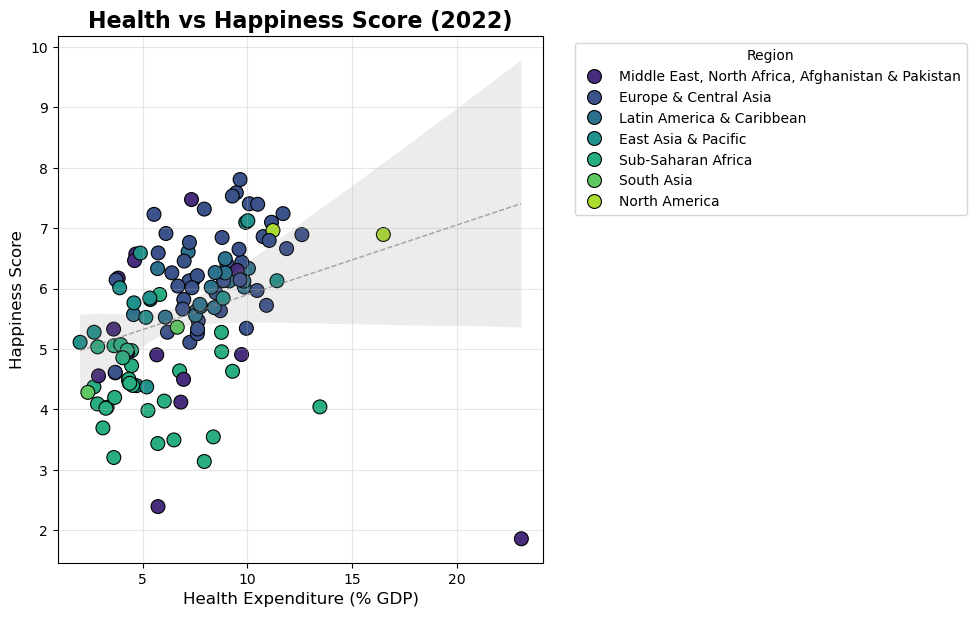

This screenshot's page, from the dashboard's own definition file:
{"tool":"powerbi","page":{"name":"Health vs Happiness","canvas":[1280,720],"ordinal":1},"visuals":[{"type":"scatterChart","fields":{"Y":["whr_wdi_left_merge_wide.Happiness Score"],"Series":["whr_wdi_left_merge_wide.Region"],"X":["whr_wdi_left_merge_wide.Health Expenditure (% GDP)"],"Size":["Avg(whr_wdi_left_merge_wide.GDP per Capita)"]},"box":[9.6,0,1270.4,719.8],"z":0}]}

Visuals, with their boxes on the page's 1280x720 design canvas (x1, y1, x2, y2). These are canvas units, not pixel positions in the 976x617 screenshot, which may show the page scaled, cropped or inside an application window:
scatterChart - whr_wdi_left_merge_wide.Happiness Score x whr_wdi_left_merge_wide.Region: rect(10, 0, 1280, 720)
